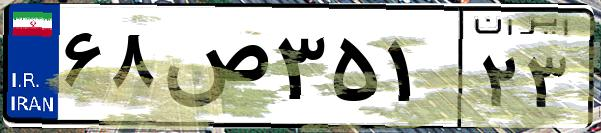1: (385, 28, 445, 110)
2: (475, 38, 525, 113)
3: (270, 28, 330, 110), (525, 38, 570, 115)
5: (330, 28, 385, 110)
6: (57, 26, 110, 100)
8: (110, 28, 158, 98)
ص: (158, 20, 270, 120)
